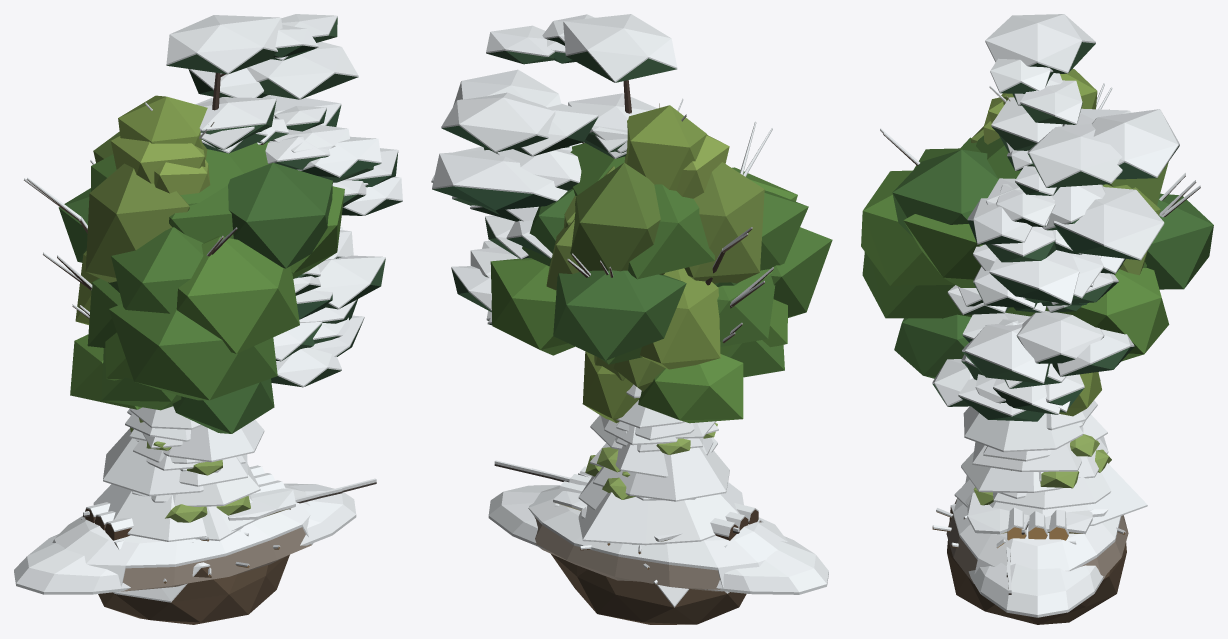
File: flora_shield.glb
3 views of the same model, side by side, from view 1: azimuth 30°, elevation 25°; view 2: azimuth 150°, elevation 25°; view 3: azimuth 270°, elevation 25° (orthographic). The views are drawn at different scales.
Parts seen in each view (by area): view 1: maple_0_leaves, maple_2_leaves, white_pine_0_snow, white_pine_2_snow, spruce_4_snow, outcrop_2_snow, maple_1_leaves, birch_1_leaves, outcrop_0_snow, beaver_lodge_0_main, aspen_2_leaves, white_pine_3_snow (+16 smaller); view 2: white_pine_0_snow, maple_0_leaves, maple_2_leaves, birch_2_leaves, spruce_4_snow, outcrop_2_snow, maple_1_leaves, outcrop_0_snow, birch_1_leaves, beaver_lodge_0_main, white_pine_0_main, aspen_2_leaves (+13 smaller); view 3: white_pine_0_snow, maple_2_leaves, maple_0_leaves, white_pine_2_snow, spruce_4_snow, white_pine_1_snow, outcrop_0_snow, outcrop_2_snow, white_pine_3_snow, white_pine_0_main, spruce_3_snow, maple_1_leaves (+15 smaller).
Part boxes in pixels (box(x1,y1,x2,y2)): maple_0_leaves: box(58, 185, 299, 400); maple_2_leaves: box(87, 141, 344, 347); white_pine_0_snow: box(166, 14, 398, 185); white_pine_2_snow: box(201, 106, 385, 387); spruce_4_snow: box(93, 406, 264, 541); outcrop_2_snow: box(52, 483, 313, 586); maple_1_leaves: box(70, 334, 274, 433); birch_1_leaves: box(85, 163, 189, 282); outcrop_0_snow: box(14, 478, 376, 594); beaver_lodge_0_main: box(98, 539, 289, 624); aspen_2_leaves: box(118, 95, 210, 194); white_pine_3_snow: box(197, 97, 402, 322); white_pine_0_snow: box(431, 14, 677, 259); maple_0_leaves: box(553, 167, 832, 360); maple_2_leaves: box(490, 143, 775, 364); birch_2_leaves: box(546, 162, 720, 369); spruce_4_snow: box(578, 384, 743, 545); outcrop_2_snow: box(528, 472, 787, 587); maple_1_leaves: box(638, 340, 784, 423); outcrop_0_snow: box(488, 460, 828, 594); birch_1_leaves: box(684, 162, 764, 283); beaver_lodge_0_main: box(551, 543, 746, 624); white_pine_0_main: box(432, 37, 676, 258); aspen_2_leaves: box(624, 105, 707, 190); white_pine_0_snow: box(985, 14, 1179, 388); maple_2_leaves: box(892, 135, 1169, 361); maple_0_leaves: box(861, 137, 1213, 318); white_pine_2_snow: box(932, 142, 1124, 416); spruce_4_snow: box(963, 378, 1147, 525); white_pine_1_snow: box(961, 121, 1134, 403); outcrop_0_snow: box(968, 547, 1105, 617); outcrop_2_snow: box(953, 483, 1121, 583); white_pine_3_snow: box(958, 97, 1084, 414); white_pine_0_main: box(990, 42, 1179, 388); spruce_3_snow: box(972, 421, 1111, 509); maple_1_leaves: box(894, 314, 971, 378).
Size of the model in its own units: 13.42 by 19.68 by 10.36.
